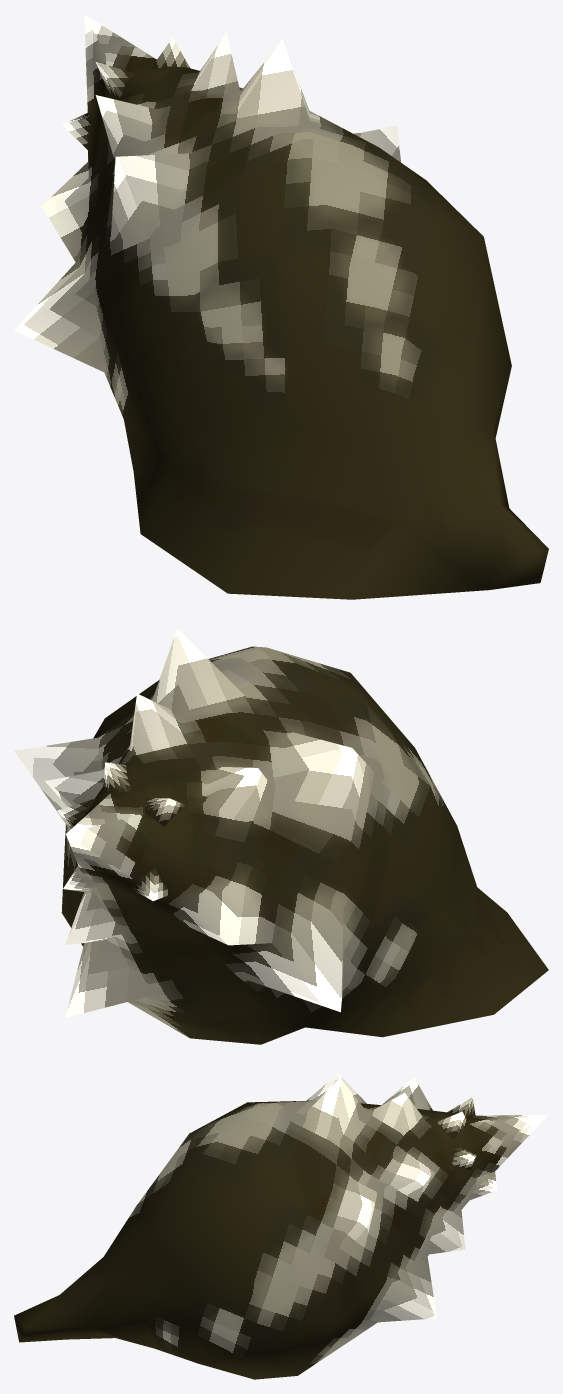
File: Shell_B.glb
3 renders of one model, top to bottom at view 1: azimuth 30°, elevation 25°; view 2: azimuth 150°, elevation 25°; view 3: azimuth 270°, elevation 25°, orthographic. The views are drawn at different scales.
Parts seen in each view (by area): view 1: Shell_B; view 2: Shell_B; view 3: Shell_B.
Boxes of the visible parts, x1,y1,x2,y2 form: Shell_B: (14,14,548,599); Shell_B: (14,628,548,1044); Shell_B: (14,1073,548,1379).
Bounding box in the file's own units: 0.3571 × 0.3734 × 0.6531.
1 material, 1 textured.
